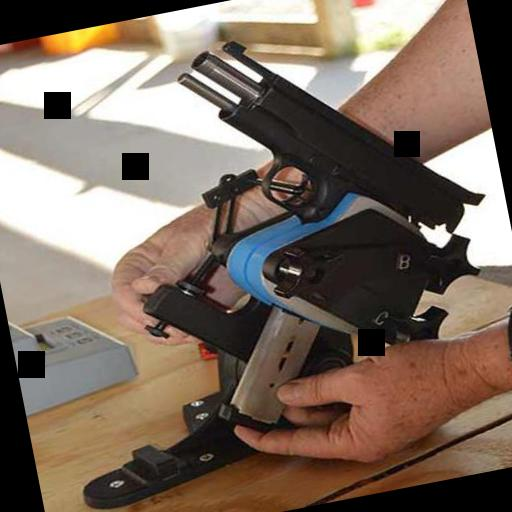Handgun: (152, 0, 512, 438)
